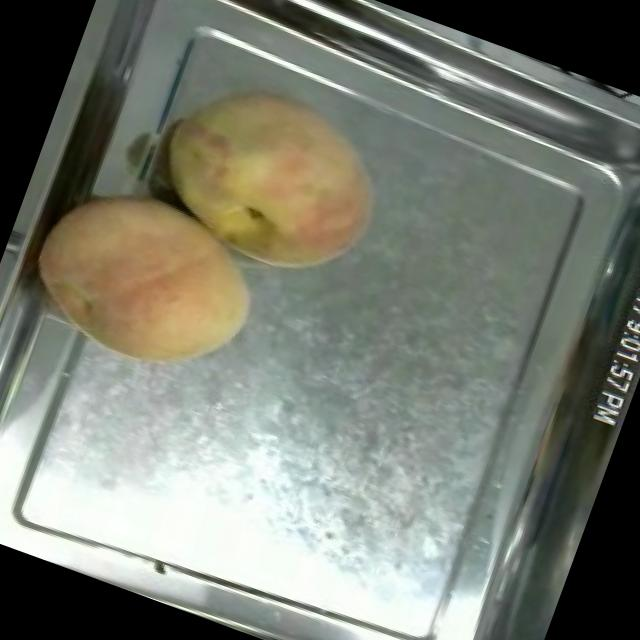Fruit: (132, 51, 410, 304), (8, 152, 288, 403)
